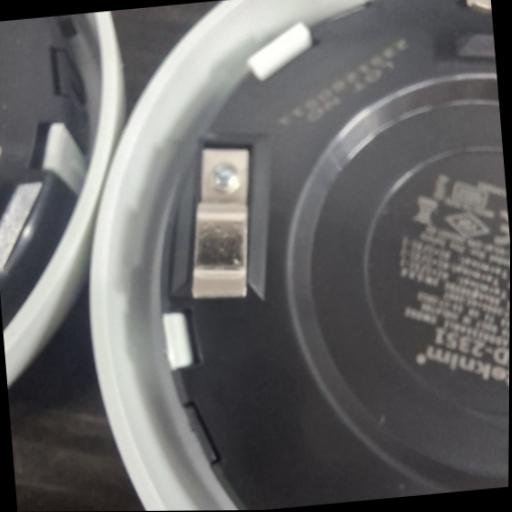yaysiz: (177, 140, 262, 305)
